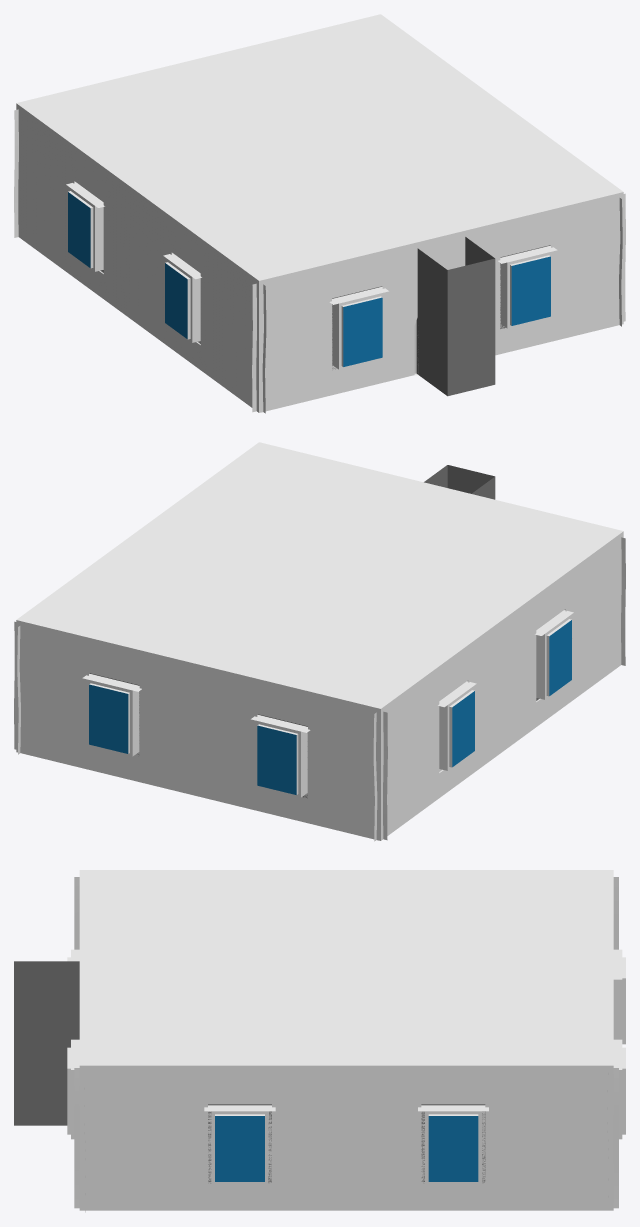
The model's file is RF5_Room15_Uno.fbx.
3 views of the same model, one above another, from view 1: azimuth 30°, elevation 25°; view 2: azimuth 150°, elevation 25°; view 3: azimuth 270°, elevation 25° (orthographic). The views are drawn at different scales.
Parts seen in each view (by area): view 1: RF5_Room15_Uno, RF5_Room15_Uno_collison_wall, RF5_Room15_Uno_window; view 2: RF5_Room15_Uno, RF5_Room15_Uno_window, RF5_Room15_Uno_collison_wall; view 3: RF5_Room15_Uno, RF5_Room15_Uno_collison_wall, RF5_Room15_Uno_window.
Part boxes in pixels (x1=…): RF5_Room15_Uno: x1=14, y1=14, x2=625, y2=413; RF5_Room15_Uno_collison_wall: x1=100, y1=237, x2=550, y2=396; RF5_Room15_Uno_window: x1=68, y1=192, x2=550, y2=366; RF5_Room15_Uno: x1=14, y1=442, x2=625, y2=841; RF5_Room15_Uno_window: x1=89, y1=620, x2=571, y2=794; RF5_Room15_Uno_collison_wall: x1=89, y1=465, x2=539, y2=798; RF5_Room15_Uno: x1=67, y1=870, x2=625, y2=1212; RF5_Room15_Uno_collison_wall: x1=14, y1=961, x2=485, y2=1183; RF5_Room15_Uno_window: x1=215, y1=1116, x2=478, y2=1181.
Bounding box in the file's own units: 13.7 × 4.5 × 17.2.
